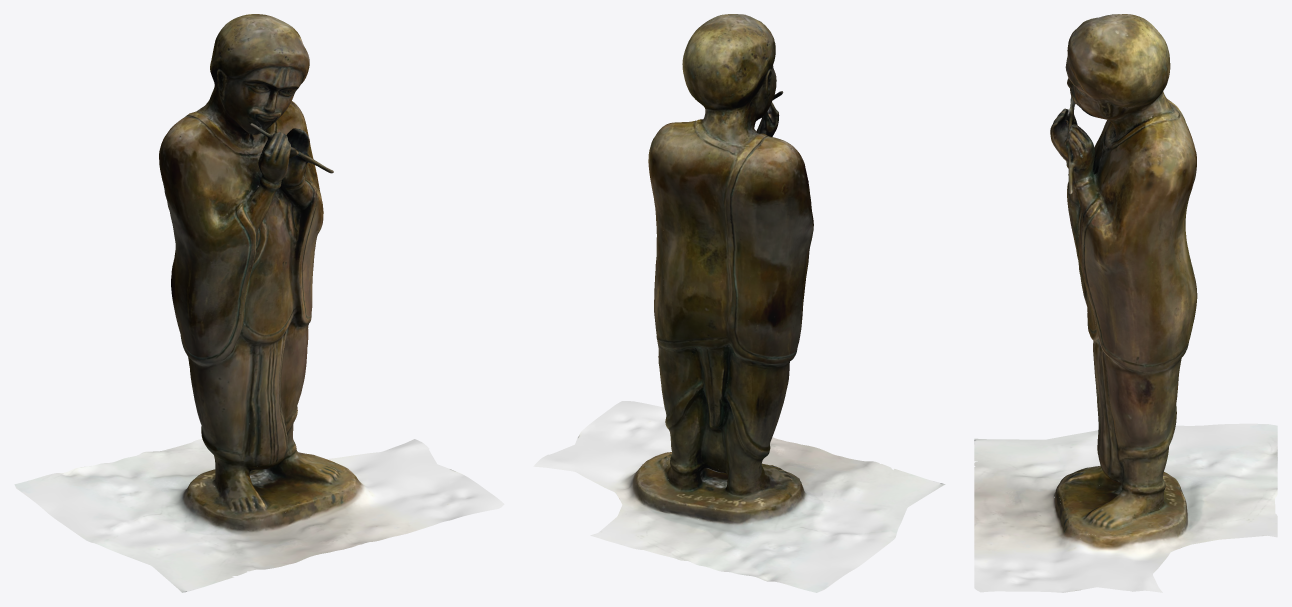
The model's file is LordKrishna.glb.
3 renders of one model, left to right at view 1: azimuth 30°, elevation 25°; view 2: azimuth 150°, elevation 25°; view 3: azimuth 270°, elevation 25°, orthographic. The views are drawn at different scales.
Visible parts, largest first — view 1: LordKrishna_export; view 2: LordKrishna_export; view 3: LordKrishna_export.
Part boxes in pixels (left/top/right/bottom): LordKrishna_export: left=14, top=14, right=504, bottom=592; LordKrishna_export: left=533, top=14, right=945, bottom=592; LordKrishna_export: left=974, top=14, right=1277, bottom=592.
Bounding box in the file's own units: 9.24 × 12.37 × 6.89.
Materials: 1 (1 with a texture image).
